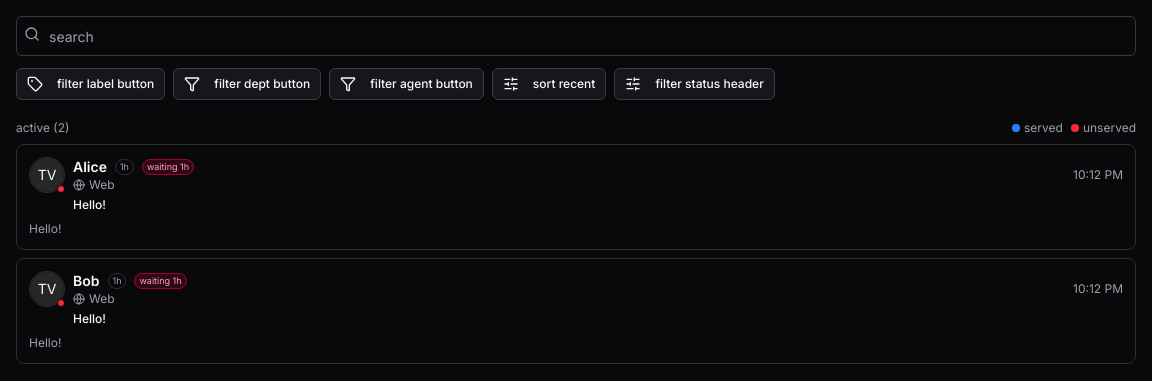
Scenario: ConversationList search › filters by user name
// i18n key "search" → "search"
Type "Alice" into the field with placeholder "search" at (576, 36), box [16,16,1136,56]
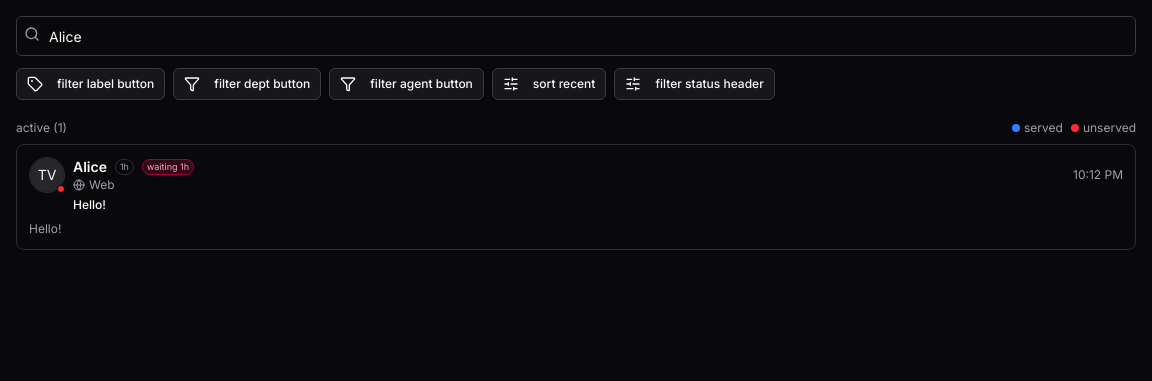
expect the text "Alice" is shown: met, box [73,157,107,177]
expect the button "Bob" is gone: met
